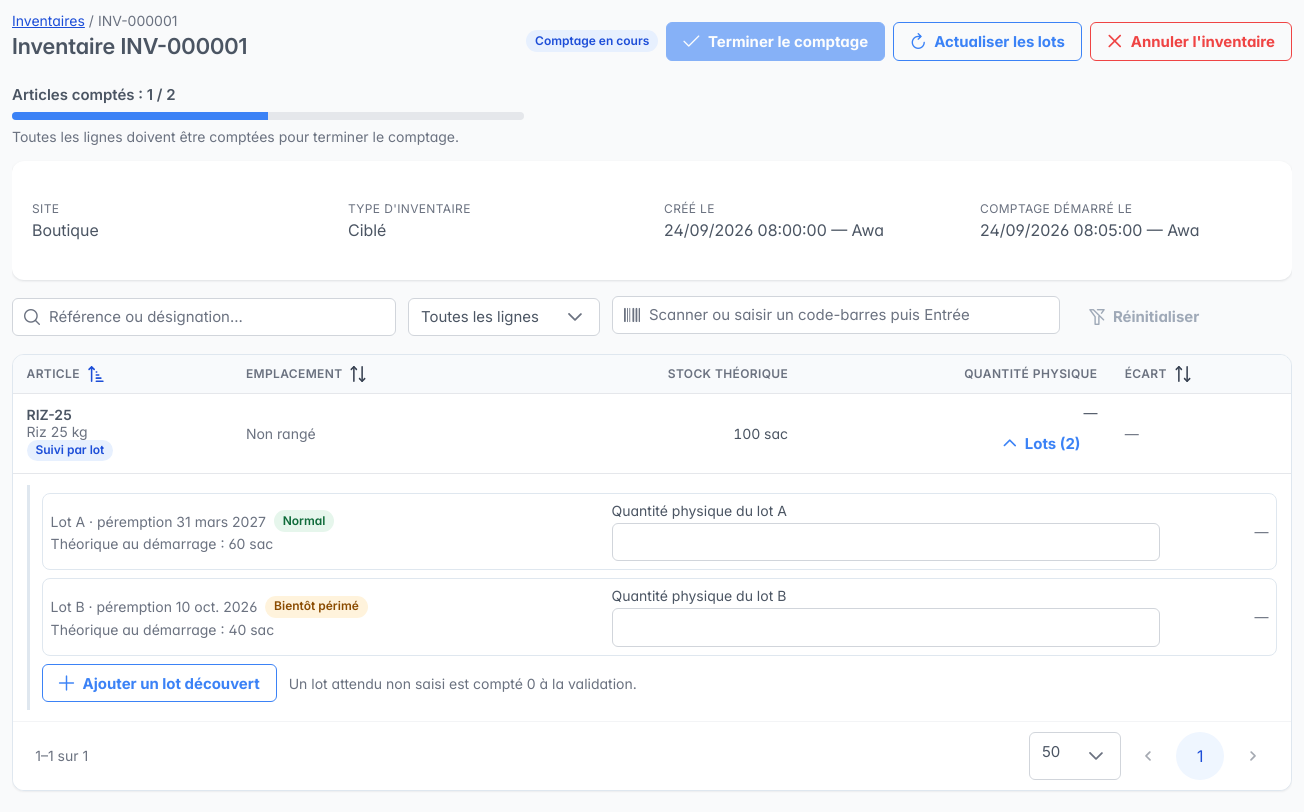
Test: inventaire par lot (Lot 3-H) › ligne suivie : lots dépliés, théorique par lot, aucune saisie au niveau de la ligne
The image size is (1304, 812).
expect the text "Suivi par lot" is shown: met, box 27,440 -> 113,461
expect the text "Lot A" is shown: met, box 51,513 -> 85,530
Step 1. Click the button with aria-label "Masquer les lots de RIZ-25" → (1042, 444), box 986,424 -> 1097,463
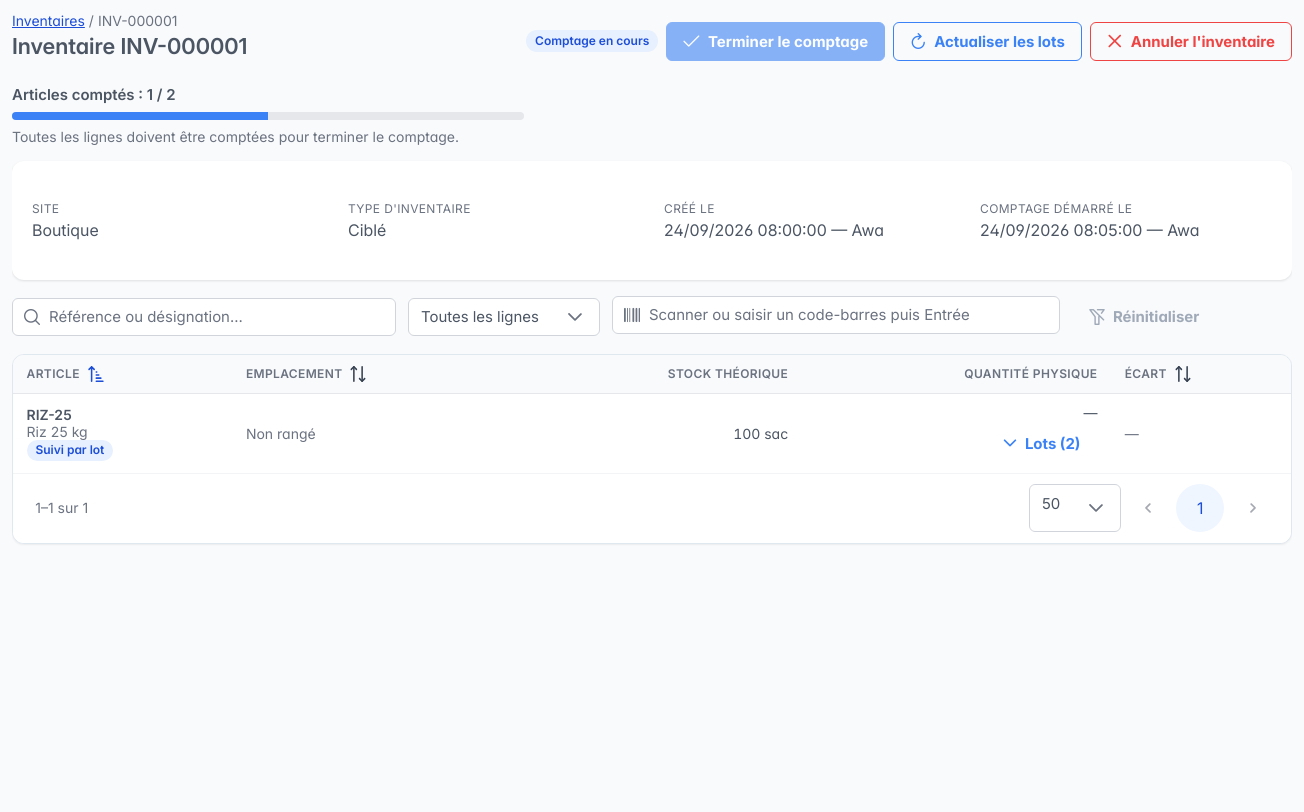
Step 2. Click the button with aria-label "Afficher les lots de RIZ-25" → (1042, 444), box 986,424 -> 1098,463
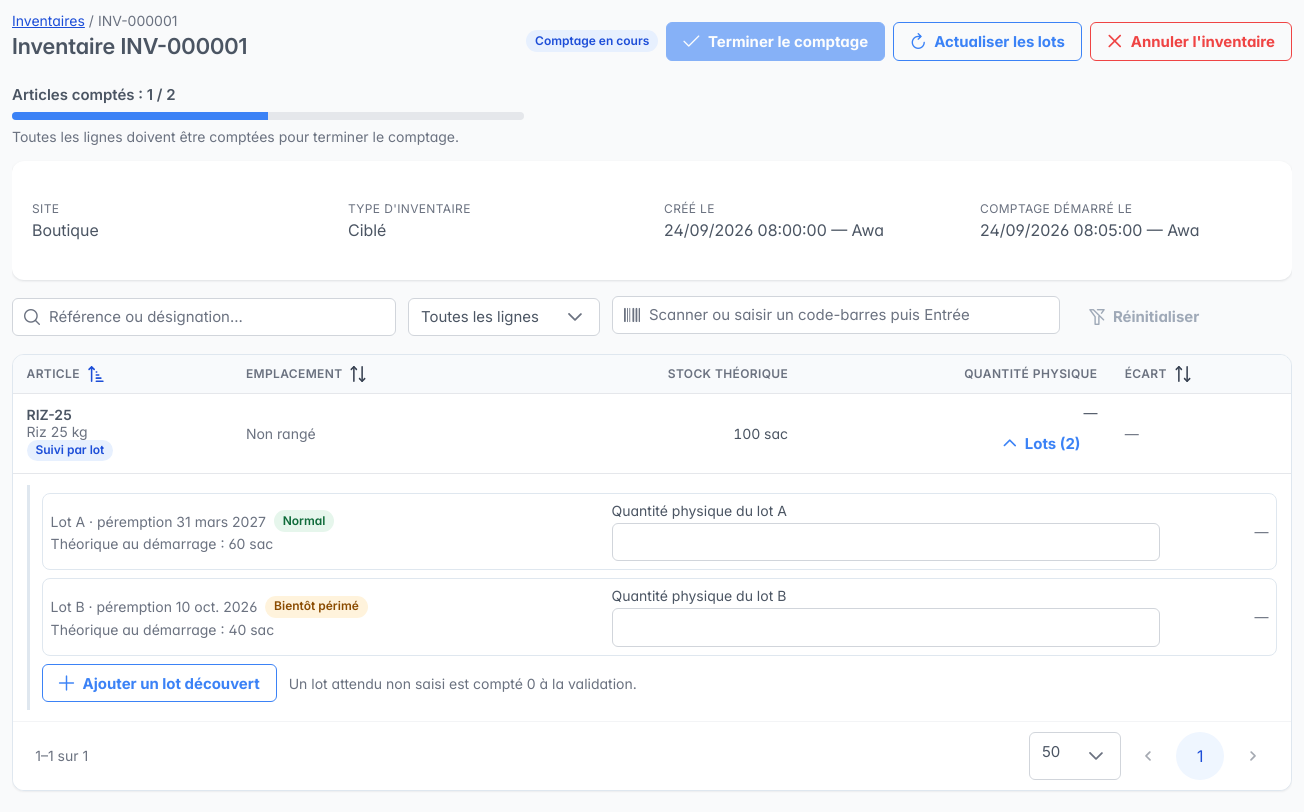
expect the element named "Lots de RIZ-25" is shown: met, box 27,484 -> 1277,710
